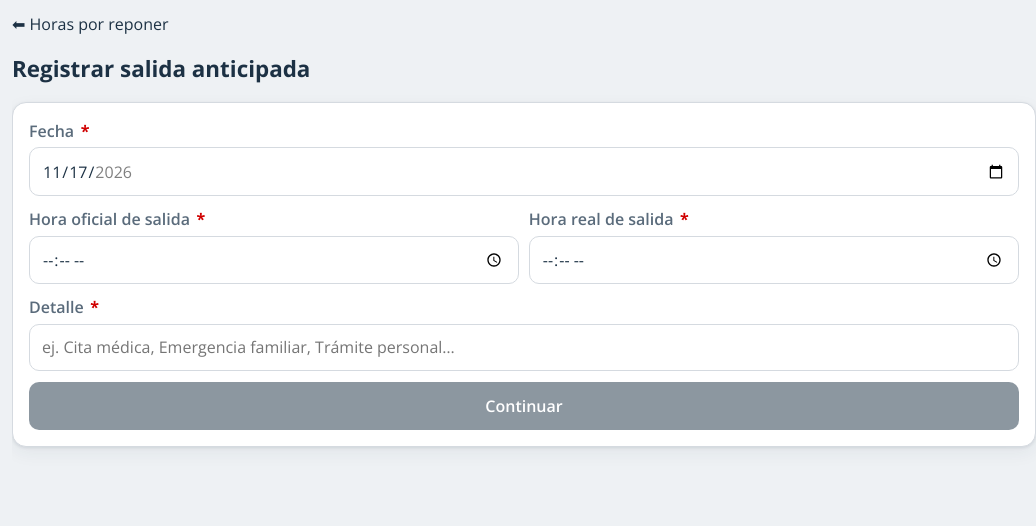
Scenario: EarlyLeaveForm › exige el detalle antes de continuar
The width and height of the screenshot is (1036, 526).
Type "17:00" into the time field labelled "Hora oficial de salida *".
click(274, 260); type("17:00")  # box [29,236,519,284]
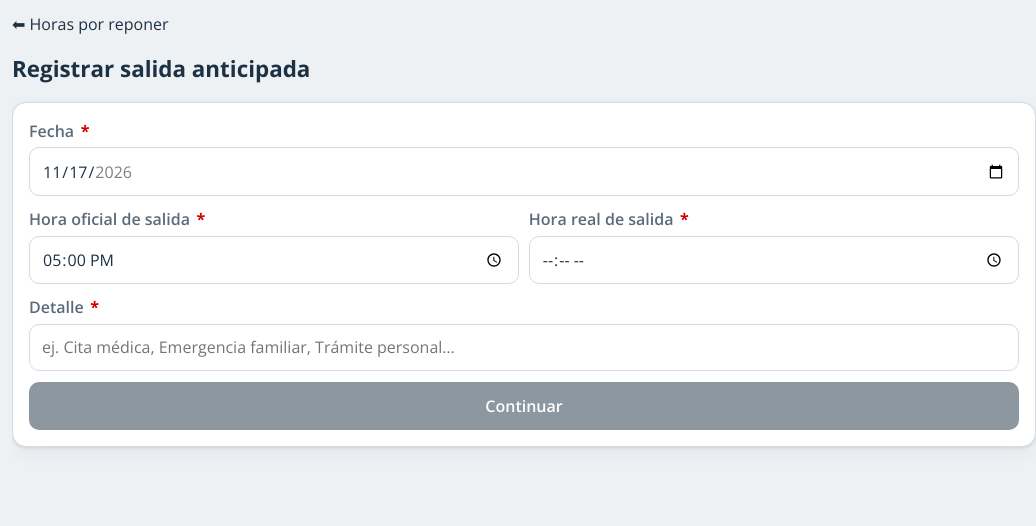
Type "16:00" into the time field labelled "Hora real de salida *".
click(774, 260); type("16:00")  # box [529,236,1019,284]
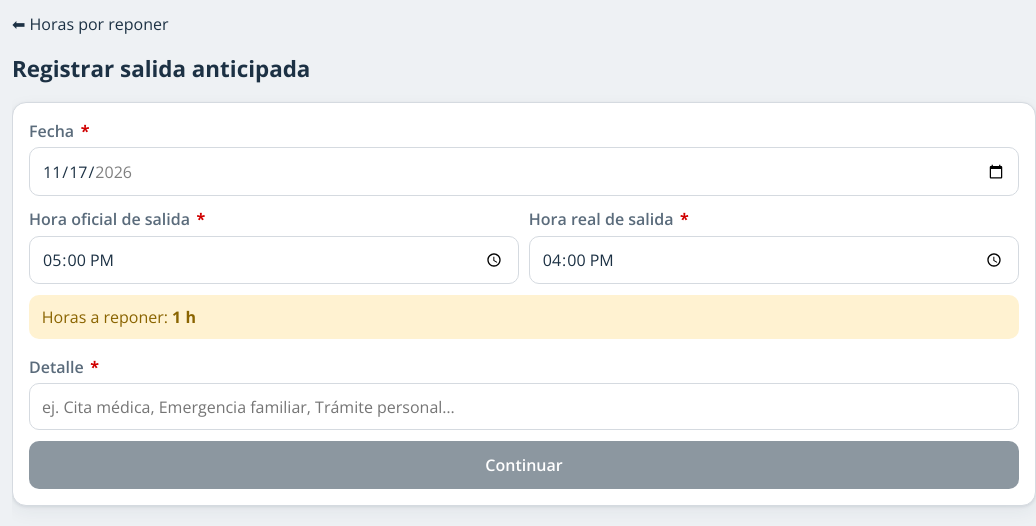
Expected: the button "Continuar" is disabled, [29,441,1019,489]
Type "Cita médica" into the field labelled "Detalle *".
click(524, 406); type("Cita médica")  # box [29,383,1019,430]
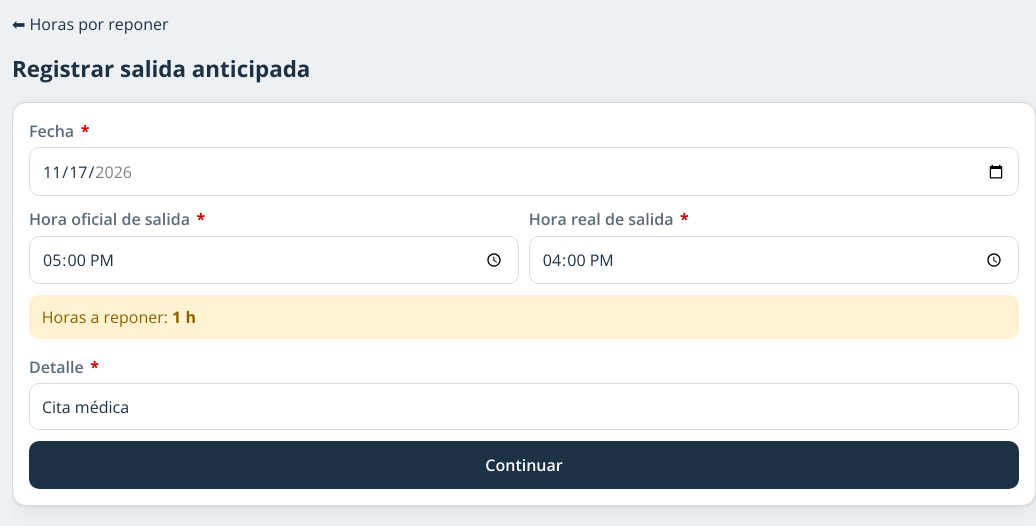
Expected: the button "Continuar" is enabled, [29,441,1019,489]
